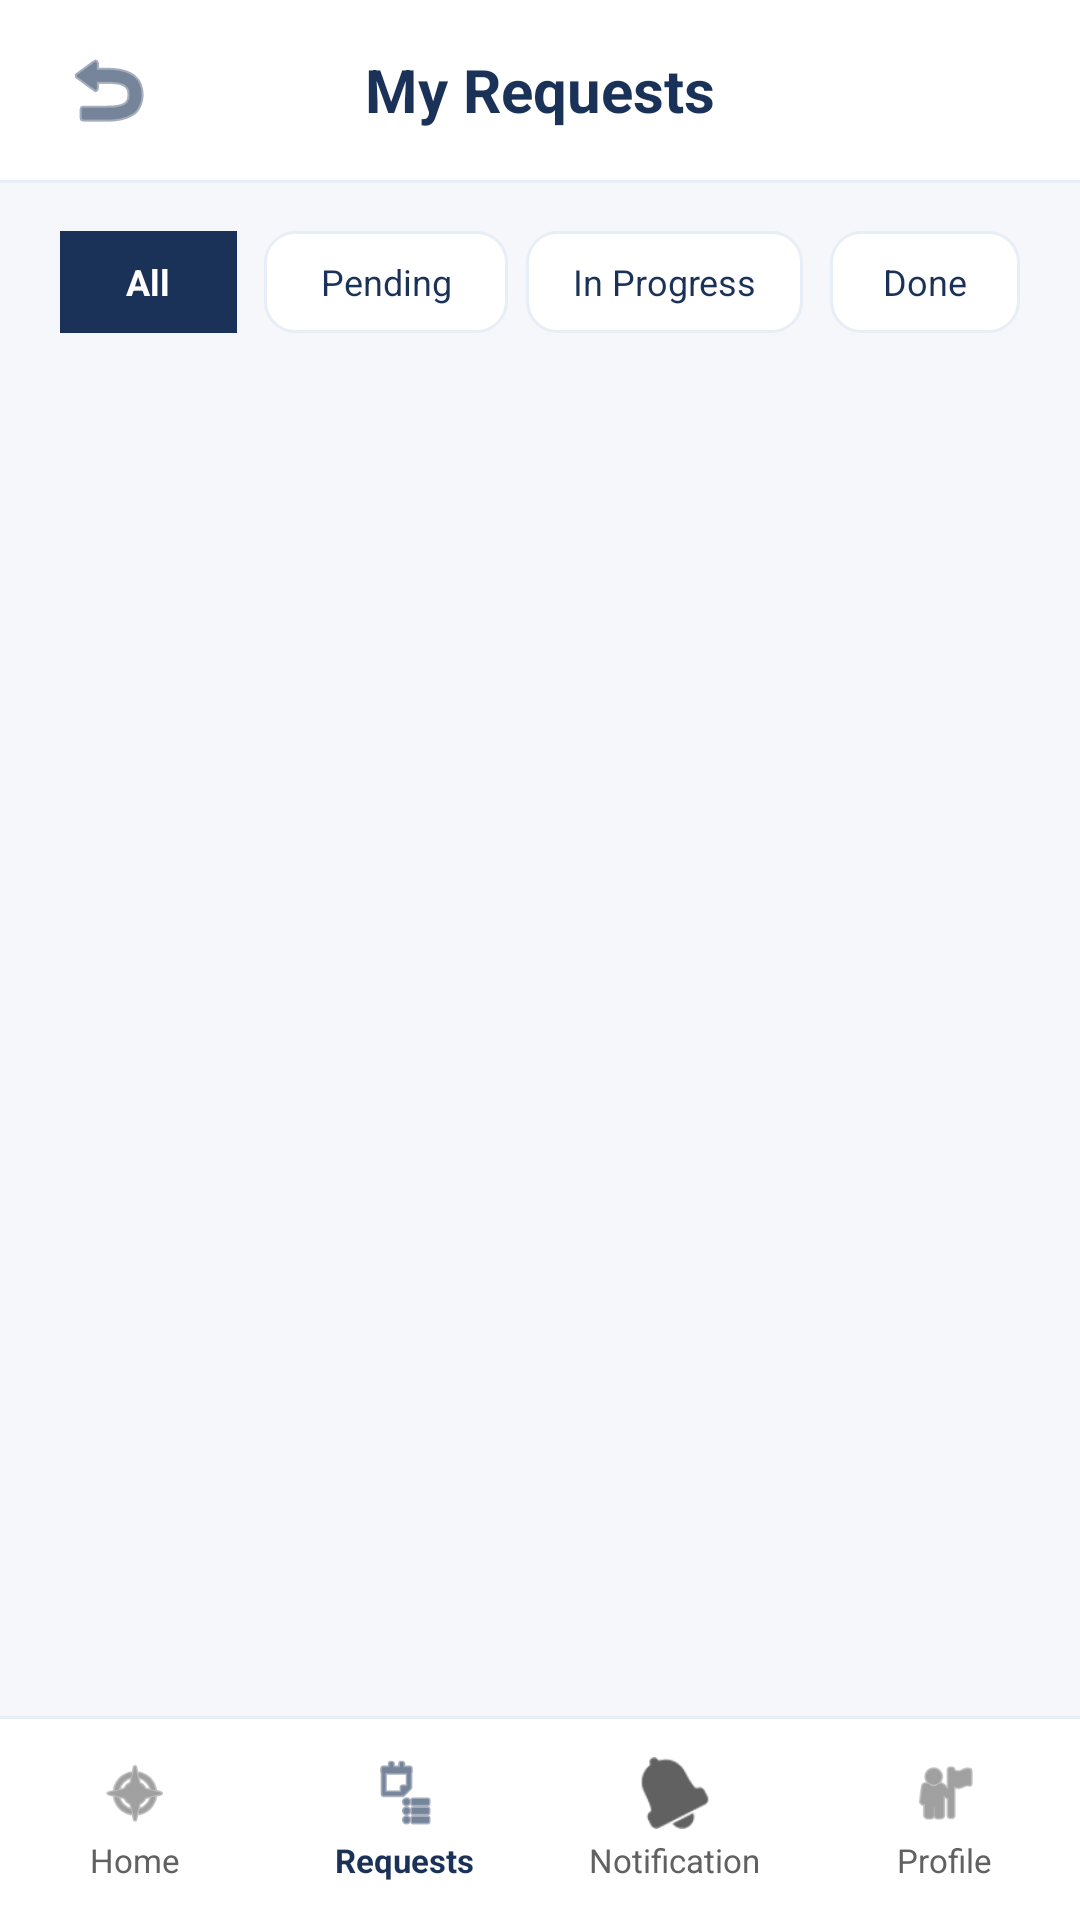

Icon bounding boxes for this 1080w x 1920h phone screenshot, format (x1, y1, x2, y2):
Back: (75, 59, 144, 122)
